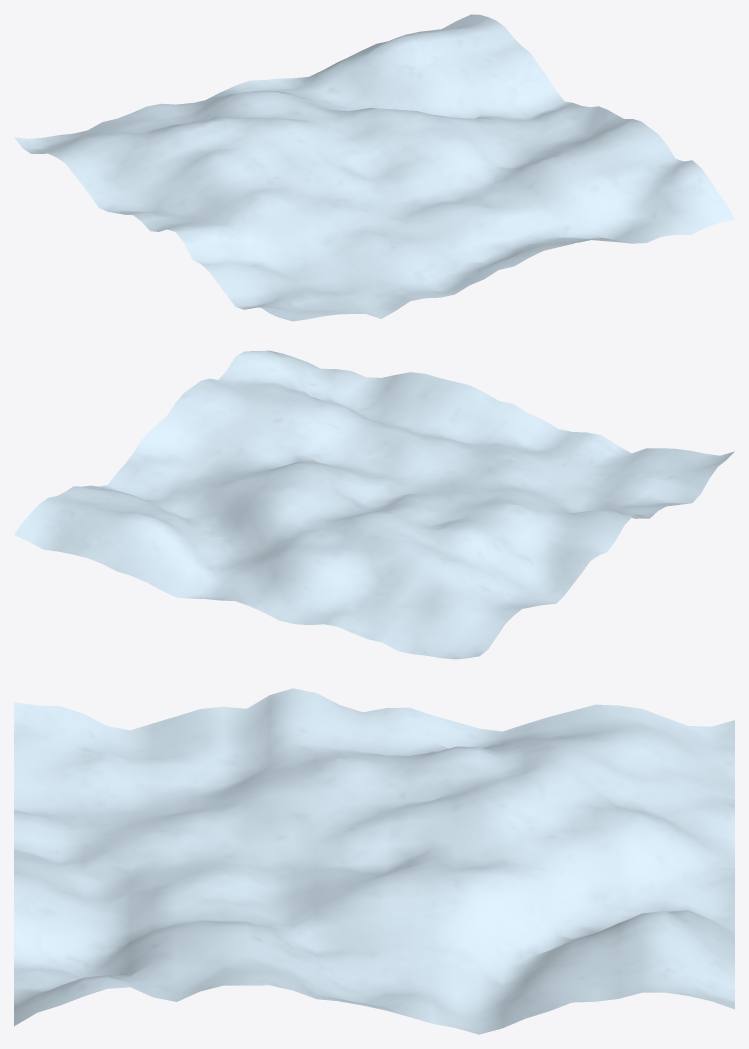
The model's file is snowground.gltf.
3 views of the same model, one above another, from view 1: azimuth 30°, elevation 25°; view 2: azimuth 150°, elevation 25°; view 3: azimuth 270°, elevation 25° (orthographic). The views are drawn at different scales.
Parts seen in each view (by area): view 1: Landscape.002; view 2: Landscape.002; view 3: Landscape.002.
Part boxes in pixels (x1=…): Landscape.002: x1=14, y1=14, x2=734, y2=321; Landscape.002: x1=14, y1=350, x2=734, y2=659; Landscape.002: x1=14, y1=688, x2=734, y2=1034.
Size of the model in its own units: 2 by 0.2008 by 2.
Materials: 1 (1 with a texture image).
